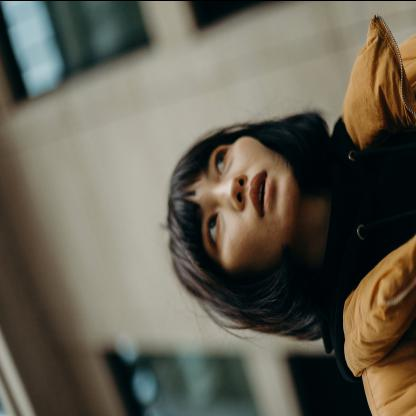Eye: (207, 210, 223, 254), (215, 146, 232, 175)
Mouth: (247, 168, 272, 219)
Nose: (216, 173, 247, 210)
